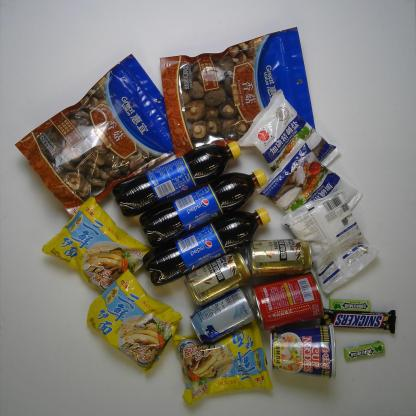Alcohol: (182, 250, 252, 308), (189, 288, 258, 344), (245, 238, 313, 278)
Canned Food: (252, 271, 324, 332)
Chocolate: (318, 308, 396, 335)
Dried Food: (14, 53, 175, 219), (160, 26, 316, 158)
Drink: (138, 168, 268, 247), (142, 207, 271, 286), (112, 140, 242, 218)
Gum: (343, 340, 386, 361), (328, 298, 370, 312)
Instant Noodles: (42, 196, 153, 295), (86, 269, 183, 374), (172, 320, 274, 406), (270, 322, 336, 379)
Seasoner: (281, 188, 379, 294), (236, 88, 341, 172), (256, 138, 363, 214)
